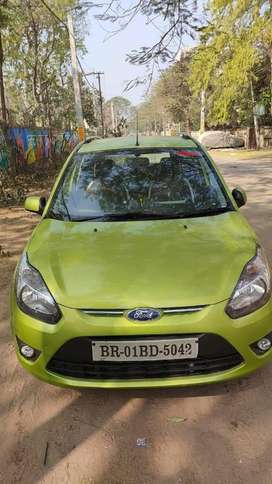BR01BD5042: (91, 338, 198, 360)
